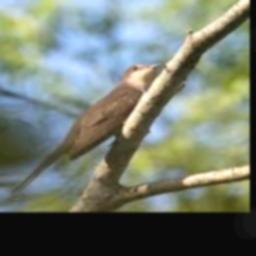Cuckoo: (11, 62, 163, 196)
